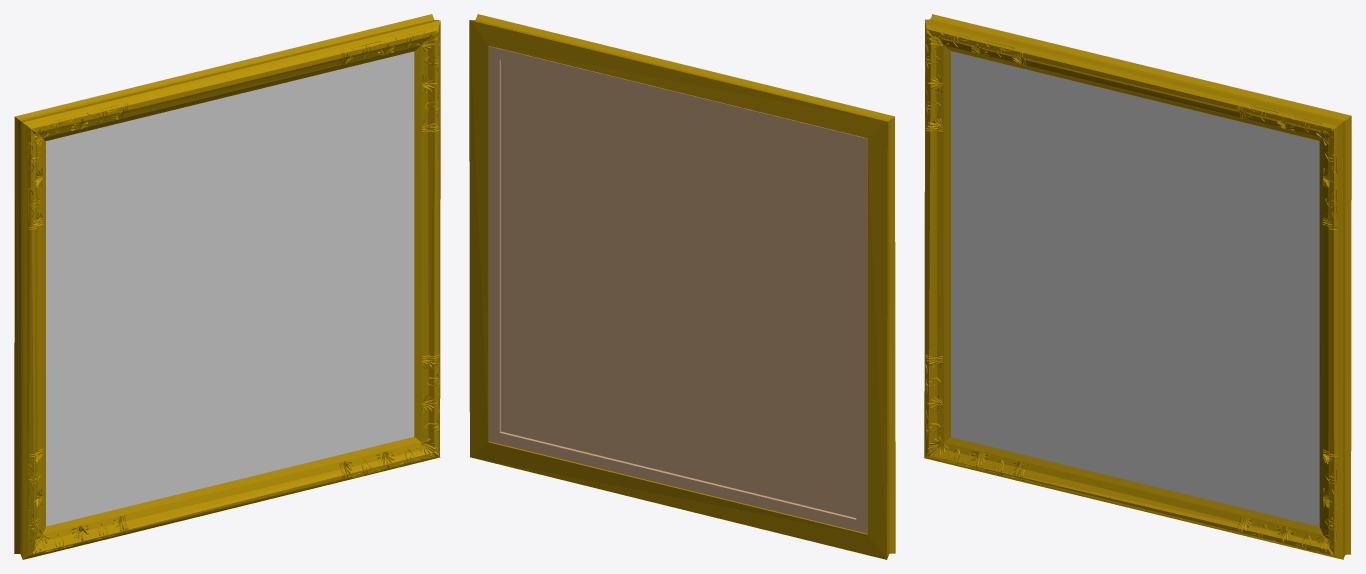
File: frame2_golden2_m.glb
3 views of the same model, side by side, from view 1: azimuth 30°, elevation 25°; view 2: azimuth 150°, elevation 25°; view 3: azimuth 330°, elevation 25° (orthographic).
Parts seen in each view (by area): view 1: キャンバス, 枠; view 2: 裏, 枠; view 3: キャンバス, 枠.
Part boxes in pixels (x1,y1,x2,y2): キャンバス: (46, 51, 414, 526); 枠: (14, 14, 440, 559); 裏: (488, 46, 867, 533); 枠: (469, 14, 895, 559); キャンバス: (951, 51, 1319, 526); 枠: (924, 14, 1351, 559).
Size of the model in its own units: 36.59 by 36.6 by 2.06.
